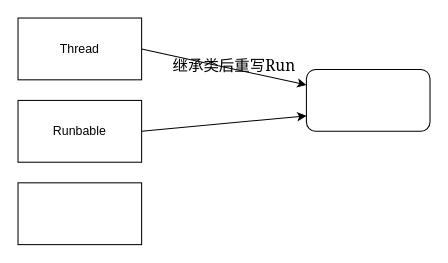
The diagram is 448 pixels wide and 263 high, and some of its shapes have lost their labels. Each missing label, with the centre of its shape:
"Callable" belongs at [79,213].
"MyClass" belongs at [367,99].
